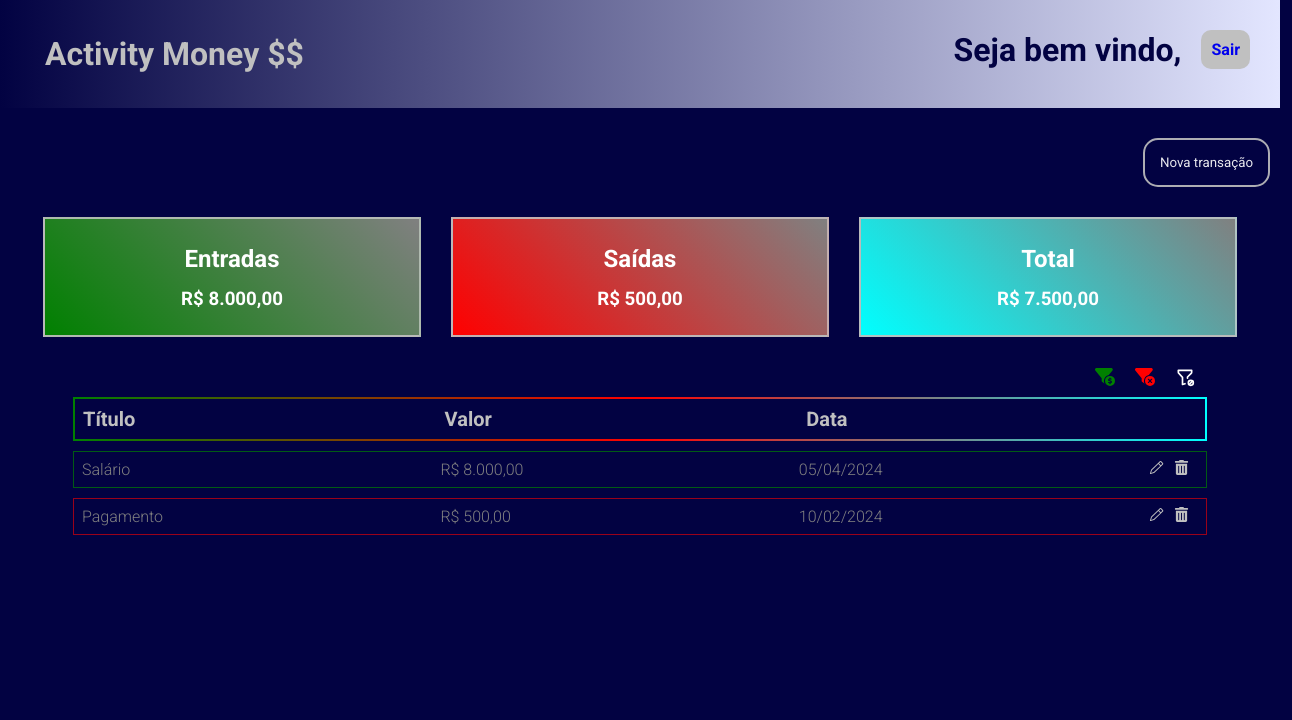
Test case: Tests the Modal Delete component › should show the Modal Delete
Click the 1st icon with test id "modal-delete" at [1182, 468], box [1174,460,1189,475]
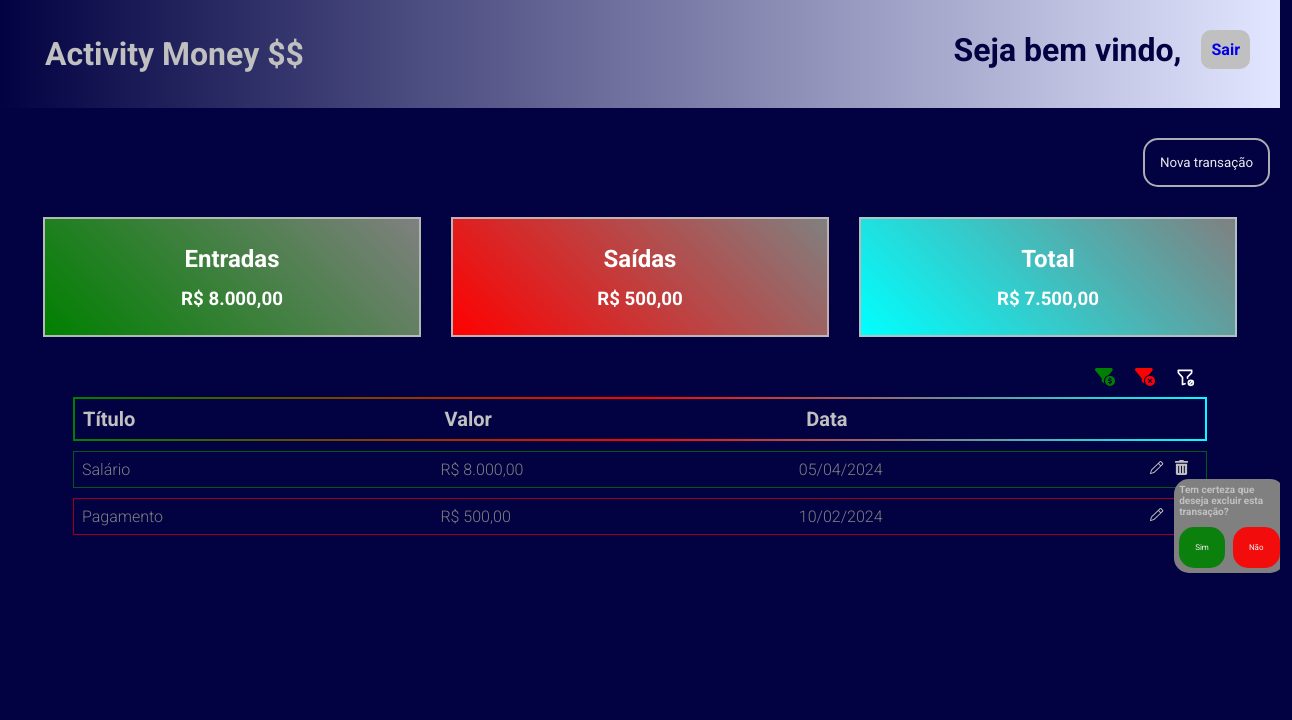
Expected: the heading "Tem certeza que deseja excluir esta transação?" is shown, [1179,484,1263,517]
